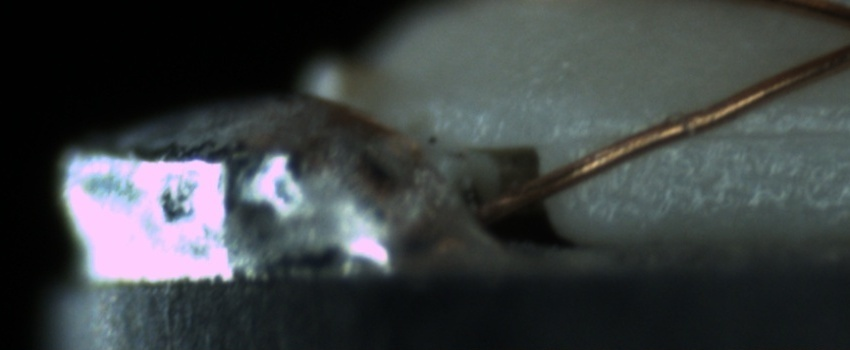DL: (570, 99, 850, 163)
